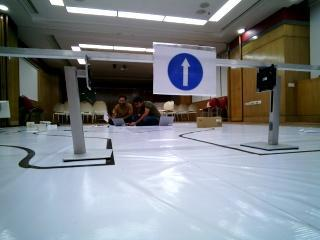straight: (151, 41, 217, 100)
